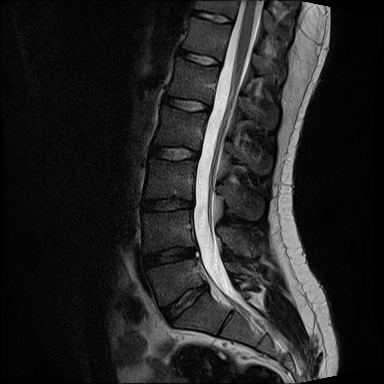Lumbar Disc Bulge (LDB): (156, 276, 210, 331), (135, 240, 201, 274), (133, 194, 198, 215)
Normal IVD: (143, 140, 203, 165), (156, 90, 214, 115), (171, 47, 225, 71), (186, 7, 238, 29)
Spinal Stenosis (SS): (184, 237, 204, 265), (197, 279, 214, 299), (186, 194, 201, 214)
